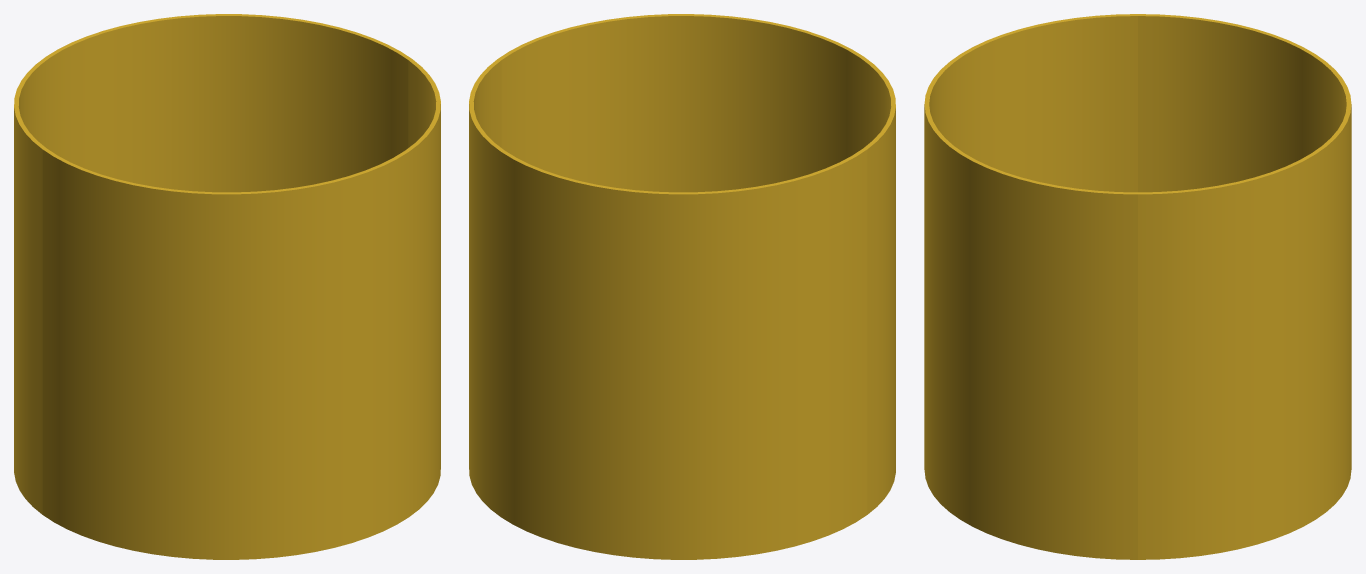
File: bauxite_slurry_mixing_tank_pressure.glb
The picture shows the model from 3 angles, left to right: view 1: azimuth 30°, elevation 25°; view 2: azimuth 150°, elevation 25°; view 3: azimuth 270°, elevation 25°; orthographic projection.
Visible parts, largest first — view 1: pressure__front, pressure__back; view 2: pressure__back, pressure__front; view 3: pressure__back, pressure__front.
Boxes of the visible parts, x1,y1,x2,y2 form: pressure__front: (42, 59, 440, 559); pressure__back: (14, 14, 411, 514); pressure__back: (469, 59, 867, 559); pressure__front: (498, 14, 895, 514); pressure__back: (1138, 14, 1351, 559); pressure__front: (924, 14, 1137, 559).
Size of the model in its own units: 1.8 by 1.7 by 1.8.
